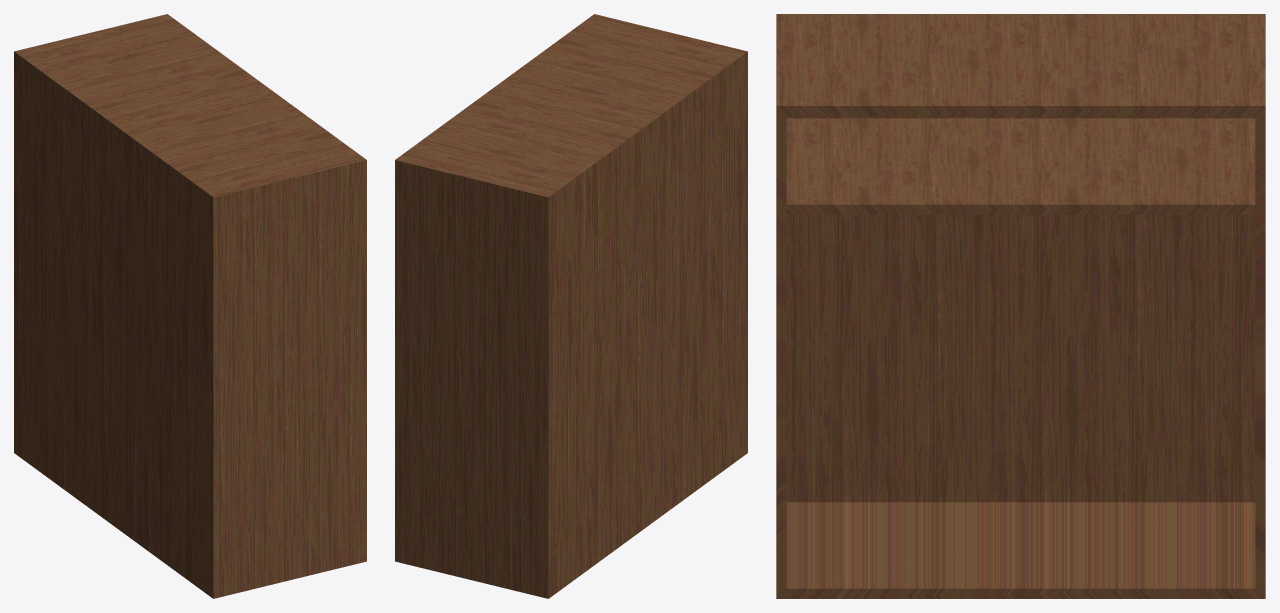
Rendered from wardrobe.glb.
3 views of the same model, side by side, from view 1: azimuth 30°, elevation 25°; view 2: azimuth 150°, elevation 25°; view 3: azimuth 270°, elevation 25° (orthographic). The views are drawn at different scales.
Visible parts, largest first — view 1: Wardrobe; view 2: Wardrobe; view 3: Wardrobe.
Boxes of the visible parts, bbox=[...] form: Wardrobe: bbox=[14, 14, 366, 598]; Wardrobe: bbox=[395, 14, 747, 598]; Wardrobe: bbox=[776, 14, 1265, 598].
Bounding box in the file's own units: 0.8 × 2 × 1.8.
Materials: 1 (1 with a texture image).
